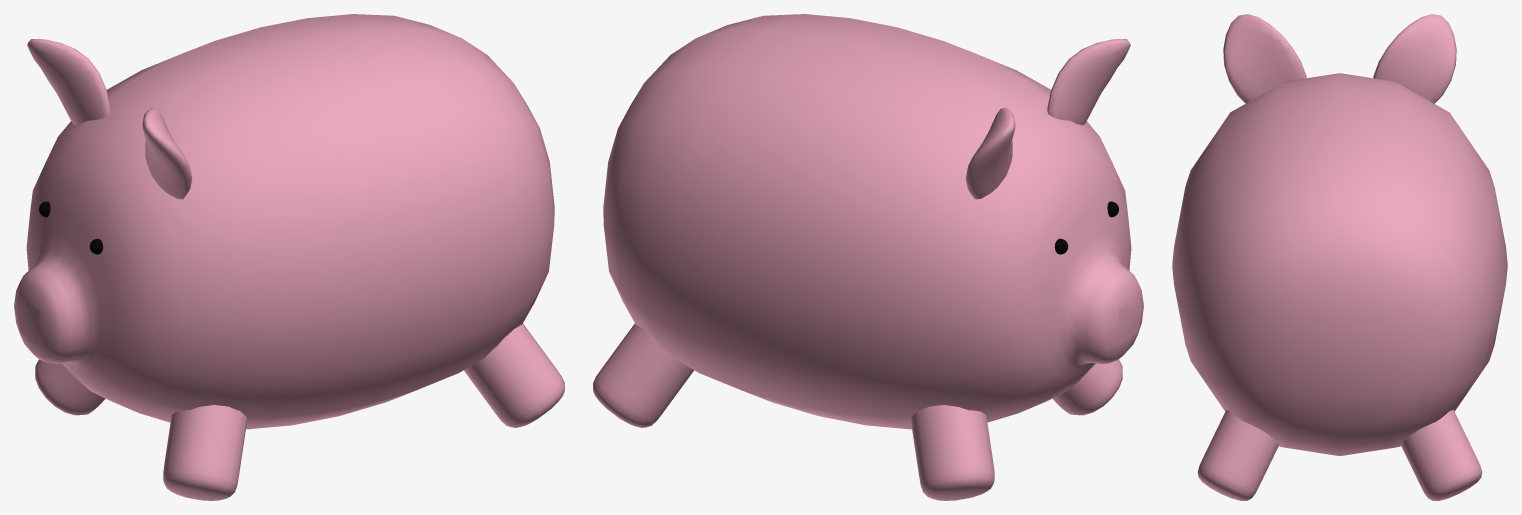
Rendered from piggy bank.fbx.
3 renders of one model, left to right at view 1: azimuth 30°, elevation 25°; view 2: azimuth 150°, elevation 25°; view 3: azimuth 270°, elevation 25°, orthographic. The views are drawn at different scales.
Visible parts, largest first — view 1: Cube, Cube.004, Cube.006, Cube.007, Cube.002, Cube.003; view 2: Cube, Cube.003, Cube.005, Cube.002, Cube.007, Cube.004; view 3: Cube, Cube.002, Cube.007, Cube.005, Cube.006.
Boxes of the visible parts, x1,y1,x2,y2 form: Cube: [14, 14, 554, 429]; Cube.004: [163, 405, 247, 500]; Cube.006: [464, 323, 564, 427]; Cube.007: [27, 38, 110, 125]; Cube.002: [142, 107, 192, 199]; Cube.003: [35, 359, 105, 415]; Cube: [603, 14, 1143, 429]; Cube.003: [910, 405, 994, 500]; Cube.005: [593, 323, 693, 427]; Cube.002: [1047, 38, 1130, 125]; Cube.007: [965, 107, 1015, 199]; Cube.004: [1052, 359, 1122, 415]; Cube: [1172, 73, 1507, 455]; Cube.002: [1223, 14, 1306, 103]; Cube.007: [1373, 14, 1456, 103]; Cube.005: [1400, 410, 1482, 500]; Cube.006: [1197, 410, 1279, 500].
Size of the model in its own units: 261 by 198 by 181.
